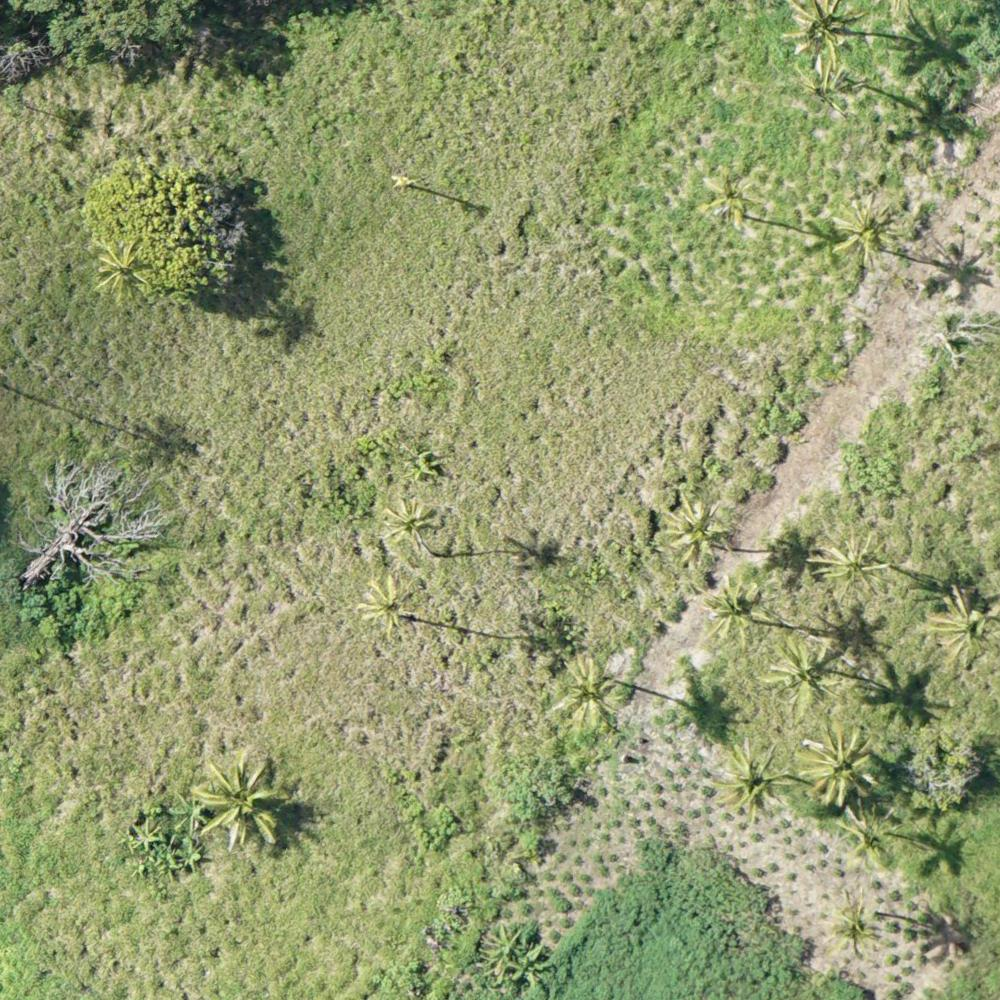Palm: (195, 751, 287, 846), (797, 722, 879, 808), (766, 631, 847, 713), (811, 518, 889, 602), (548, 650, 624, 732), (925, 580, 1000, 661), (714, 735, 787, 818), (659, 495, 738, 567), (702, 576, 778, 650), (831, 192, 900, 266), (837, 800, 897, 875), (821, 892, 886, 956), (787, 2, 855, 58), (95, 241, 156, 302), (375, 497, 436, 551), (799, 56, 855, 112), (359, 576, 412, 635), (706, 165, 755, 224)
